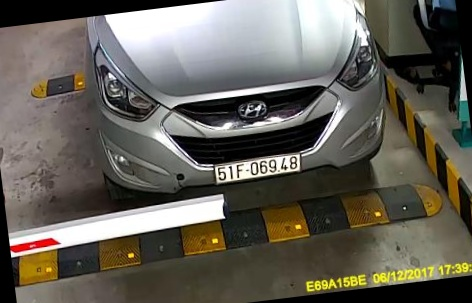plate: (198, 149, 304, 190)
